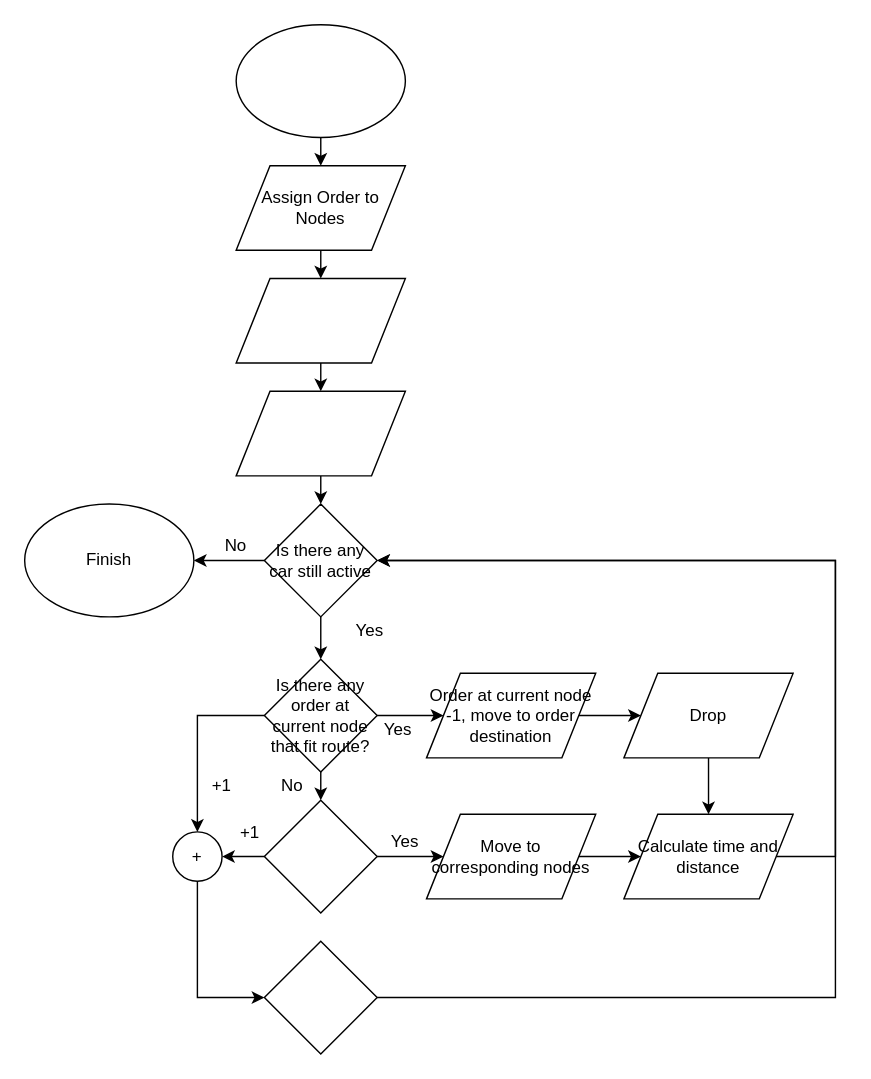
Some shapes in this 871 by 1079 pixel diagram are drawn without their labels. The centre of each missing label's shape, as x and y in pixels:
"Assign Route for every single car" goes at (x=320, y=433).
"Clean every zero value req" goes at (x=320, y=320).
"If == 2 car not active" goes at (x=320, y=997).
"Is there any order at another node that fit route?" goes at (x=320, y=856).
"Start" goes at (x=320, y=80).
